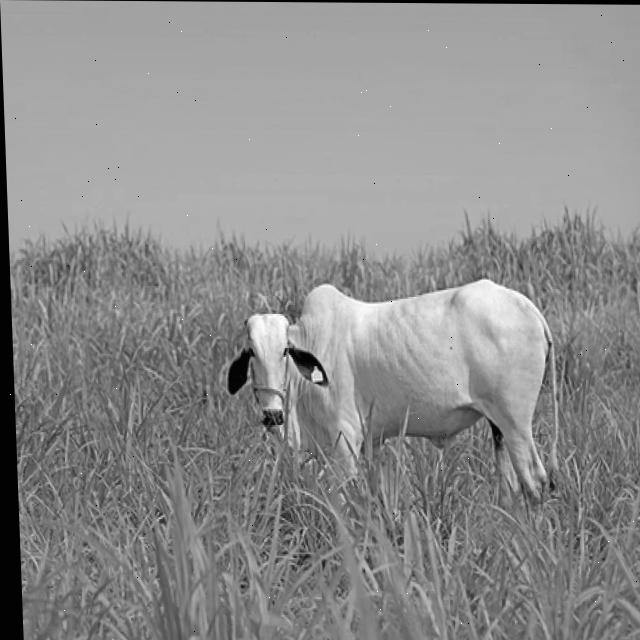Cow: (222, 274, 564, 535)
